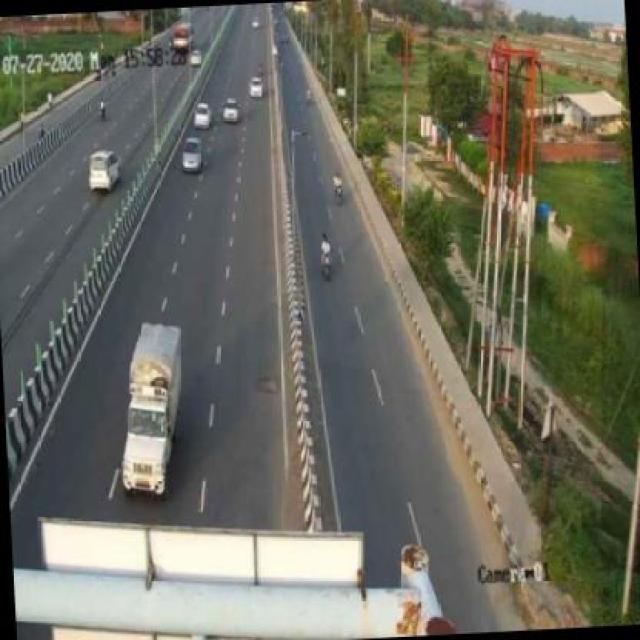car: (104, 318, 190, 497), (86, 151, 119, 194), (180, 137, 203, 175), (188, 99, 212, 132), (217, 94, 240, 128), (245, 72, 266, 100)
